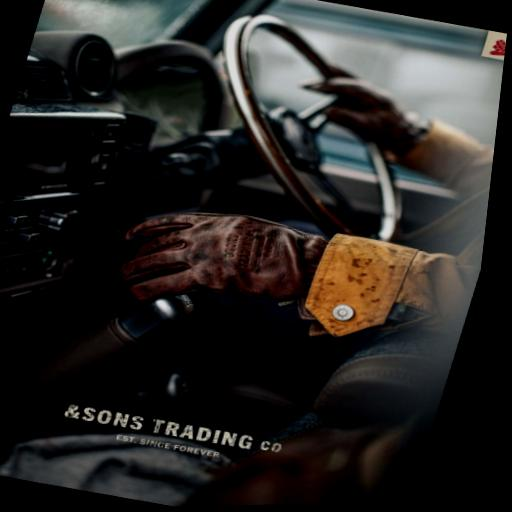Hands-on-the-Wheel: (262, 49, 465, 189)
